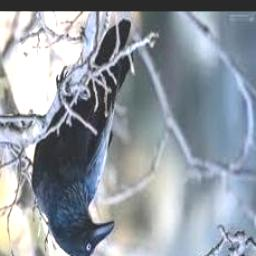Crow: (31, 18, 134, 256)
